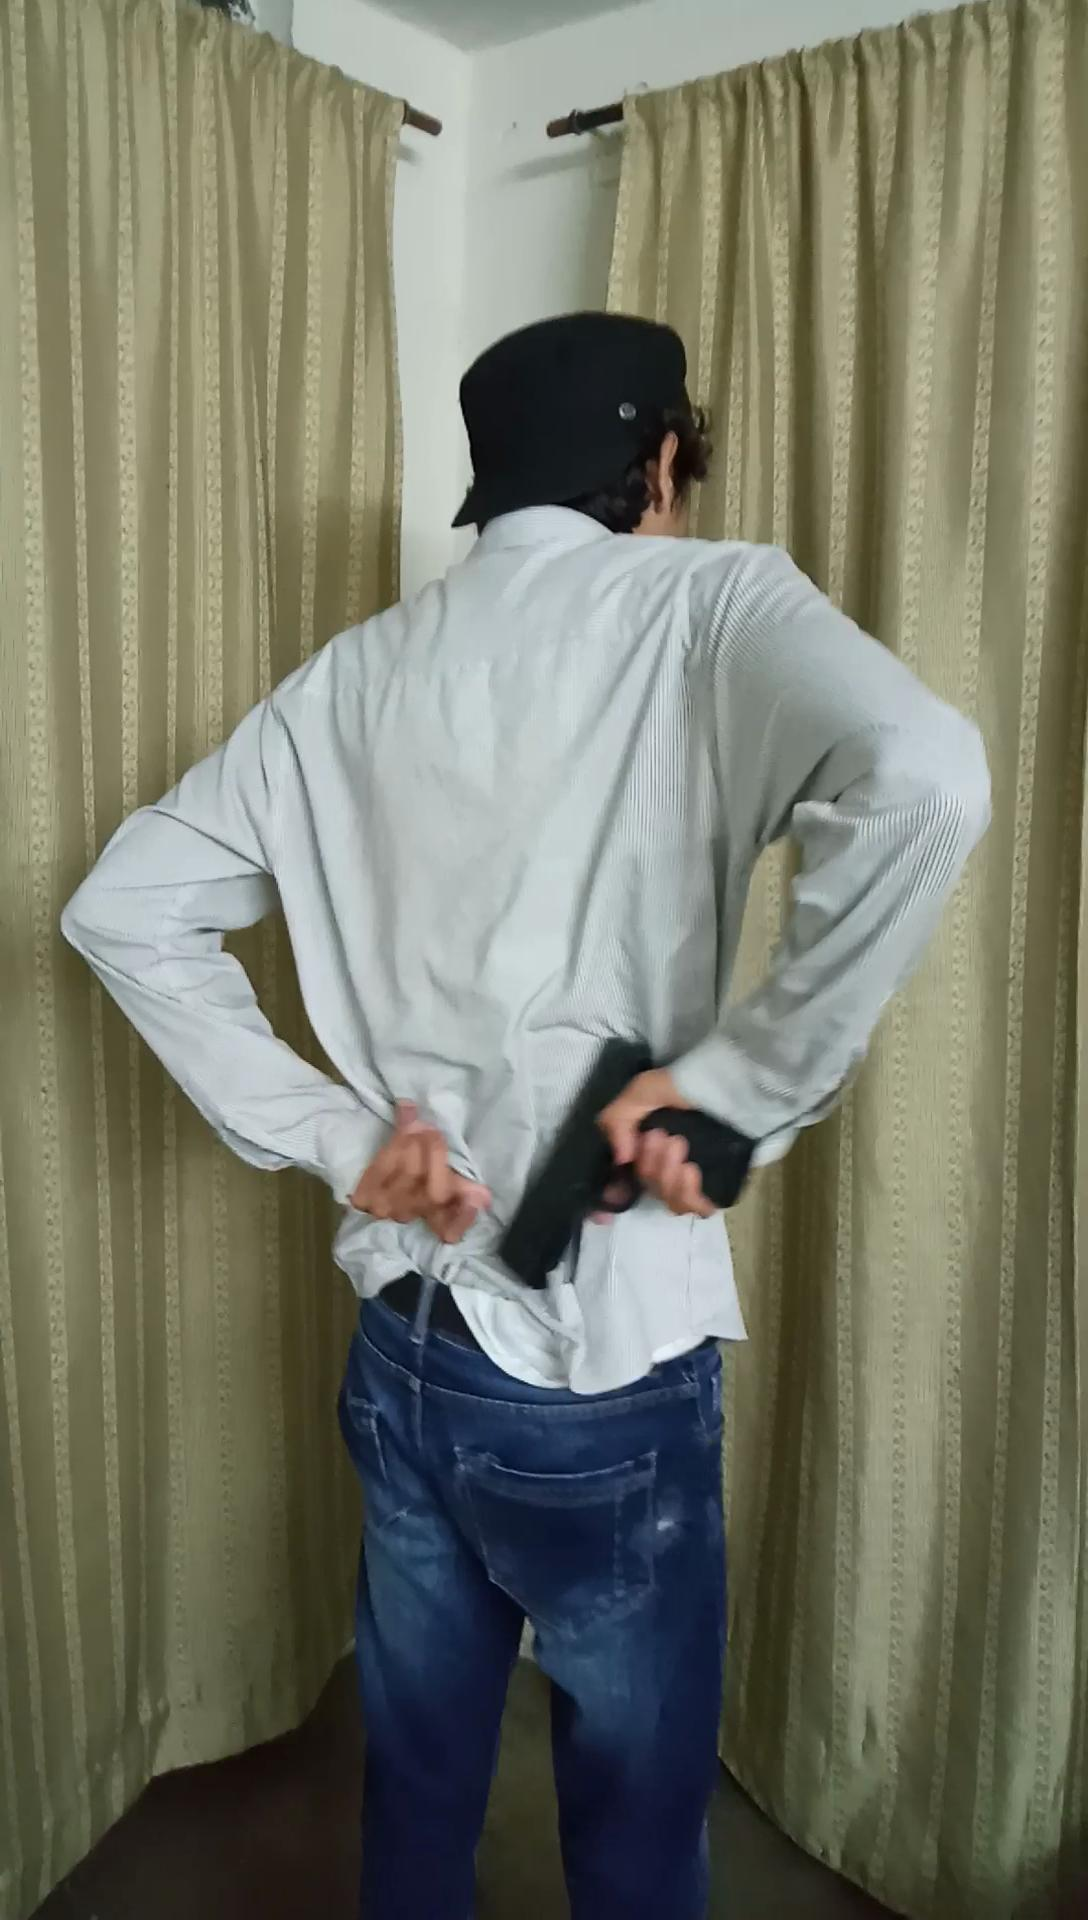weapon: (488, 1015, 771, 1305)
